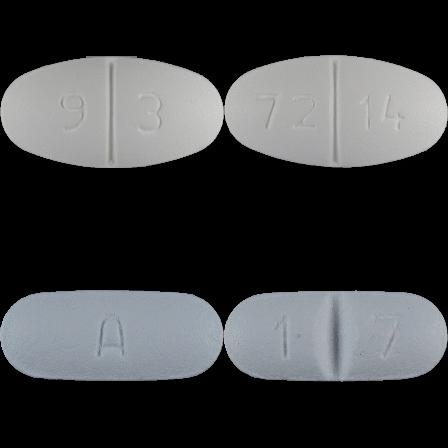66116-370: (0, 0, 224, 224)
